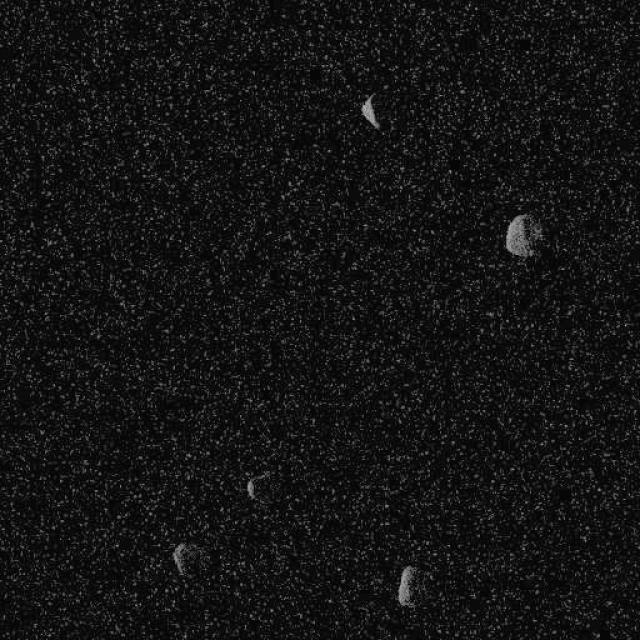D2: (503, 211, 542, 259), (397, 564, 418, 608), (359, 91, 381, 130), (171, 541, 189, 575), (245, 478, 256, 500)
